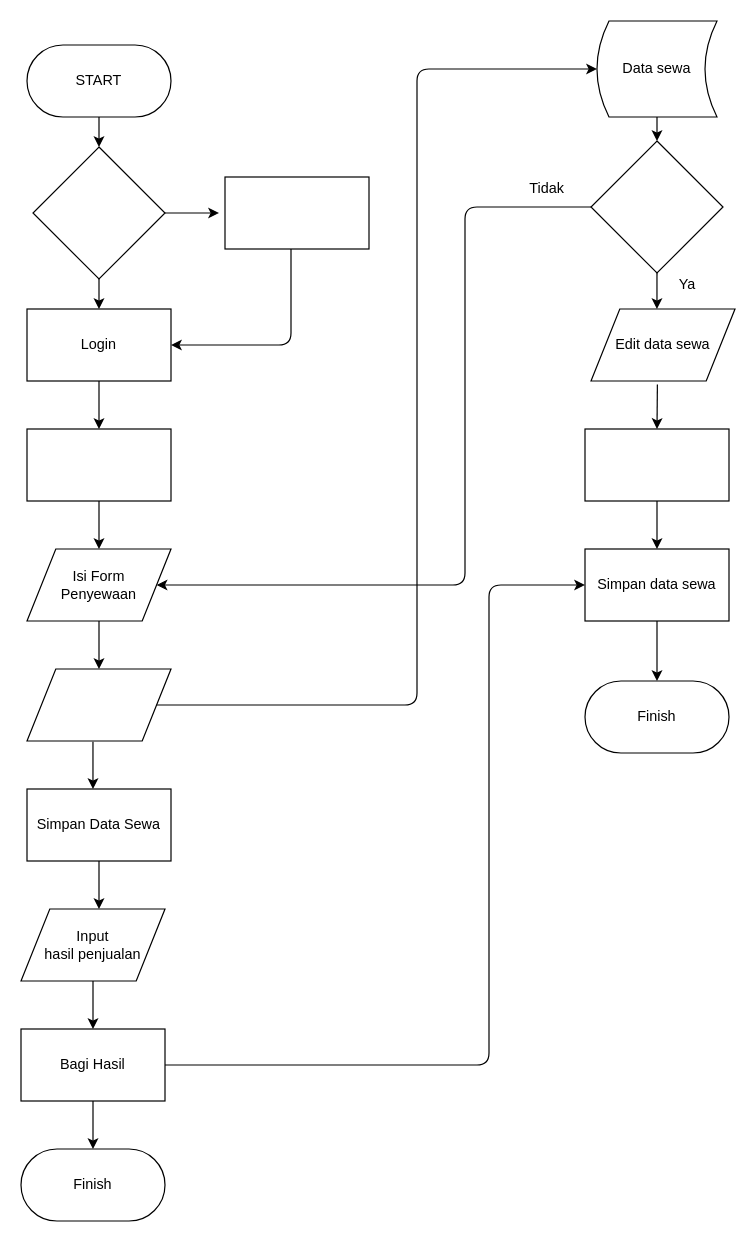
This 756x1242 diagram has some shape labels left out. The shapes that lost their labels are listed below. From the top down, each one's centre as x and y in pixels, then its label:
At point (98, 212): "Sudah Punya Akun?".
At point (296, 212): "Register".
At point (656, 206): "Aprrove".
At point (98, 464): "Pilih tempat".
At point (656, 464): "Sort data sewa".
At point (98, 704): "Sewa".
